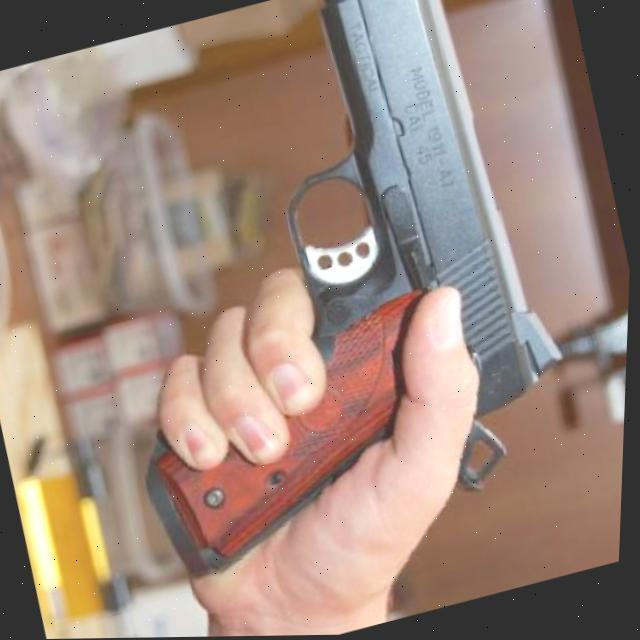gun: (50, 0, 608, 587)
